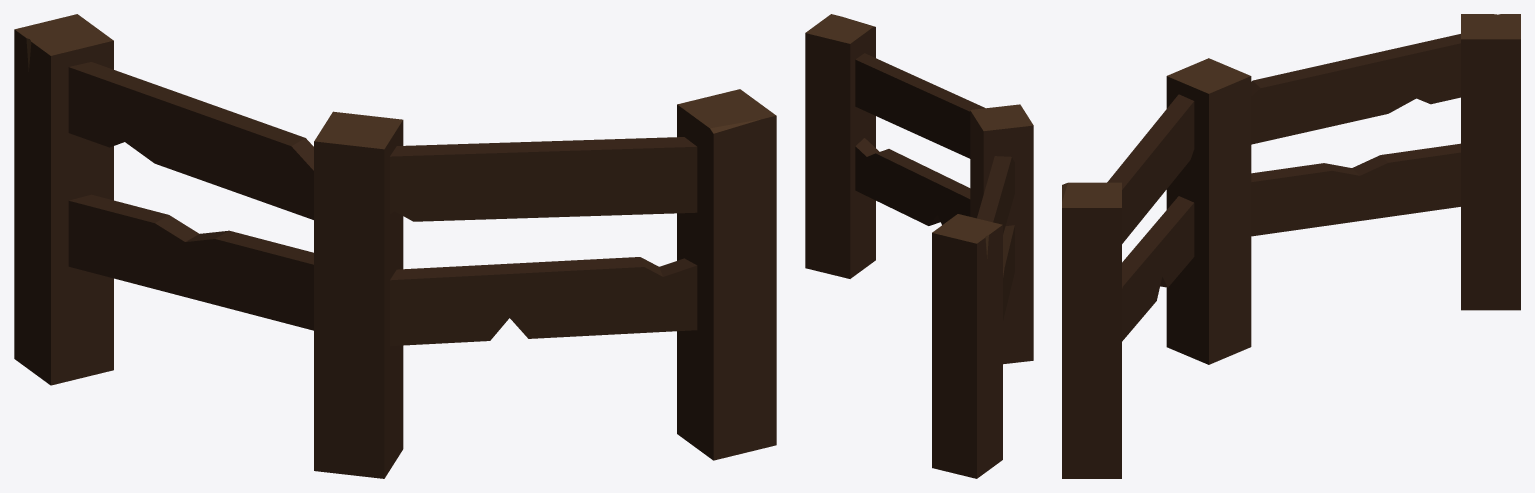
Rendered from Cave_Lair_Wooden_Timber_Fence_Corner_Small_01.fbx.
3 renders of one model, left to right at view 1: azimuth 30°, elevation 25°; view 2: azimuth 150°, elevation 25°; view 3: azimuth 270°, elevation 25°, orthographic. The views are drawn at different scales.
Visible parts, largest first — view 1: Cave_Lair_Wooden_Timber_Fence_Corner_Small_01; view 2: Cave_Lair_Wooden_Timber_Fence_Corner_Small_01; view 3: Cave_Lair_Wooden_Timber_Fence_Corner_Small_01.
Boxes of the visible parts, left/top/right/bottom form: Cave_Lair_Wooden_Timber_Fence_Corner_Small_01: left=14, top=14, right=776, bottom=478; Cave_Lair_Wooden_Timber_Fence_Corner_Small_01: left=805, top=14, right=1033, bottom=478; Cave_Lair_Wooden_Timber_Fence_Corner_Small_01: left=1062, top=14, right=1520, bottom=478.
Bounding box in the file's own units: 1.73 × 1.12 × 1.73.
